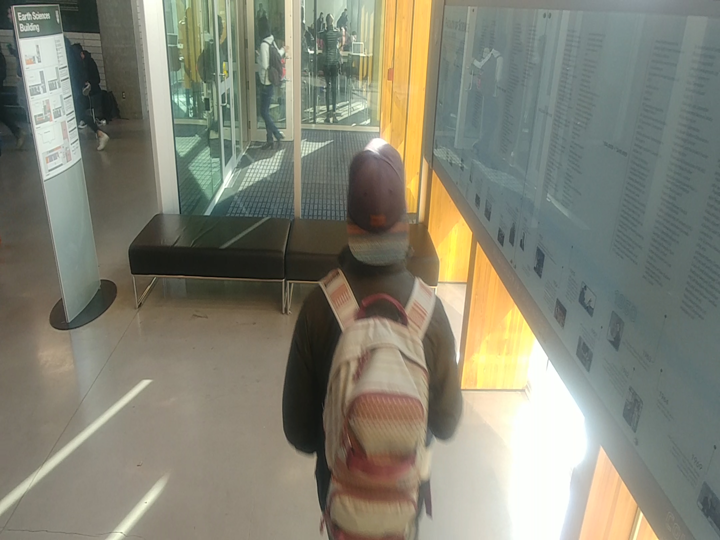face: (333, 131, 423, 281), (252, 13, 277, 47), (319, 9, 336, 32)
human: (278, 131, 468, 540), (245, 9, 285, 152), (314, 9, 346, 130)
